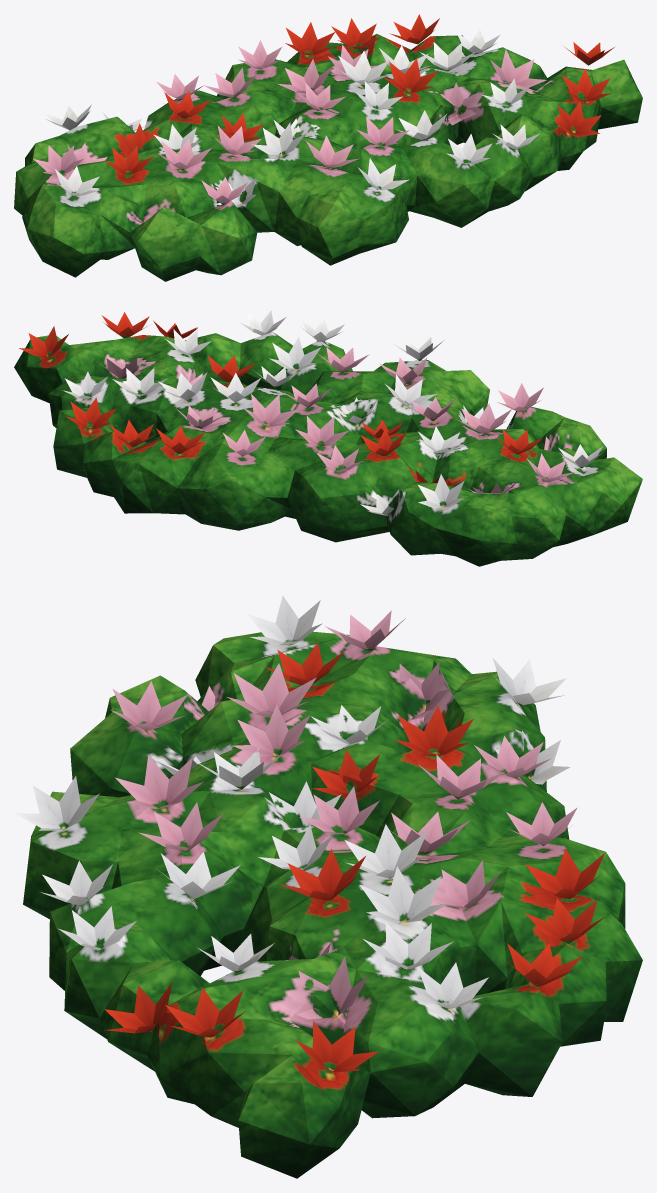
File: rose_bed.glb
The picture shows the model from 3 angles, top to bottom: view 1: azimuth 30°, elevation 25°; view 2: azimuth 150°, elevation 25°; view 3: azimuth 270°, elevation 25°; orthographic projection. The views are drawn at different scales.
Visible parts, largest first — view 1: rose_bed; view 2: rose_bed; view 3: rose_bed.
Boxes of the visible parts, box(x1,y1,x2,y2) form: rose_bed: box(14, 14, 642, 281); rose_bed: box(14, 310, 642, 566); rose_bed: box(14, 595, 642, 1178).
Size of the model in its own units: 1.78 by 0.2858 by 0.9817.
Materials: 1 (1 with a texture image).
